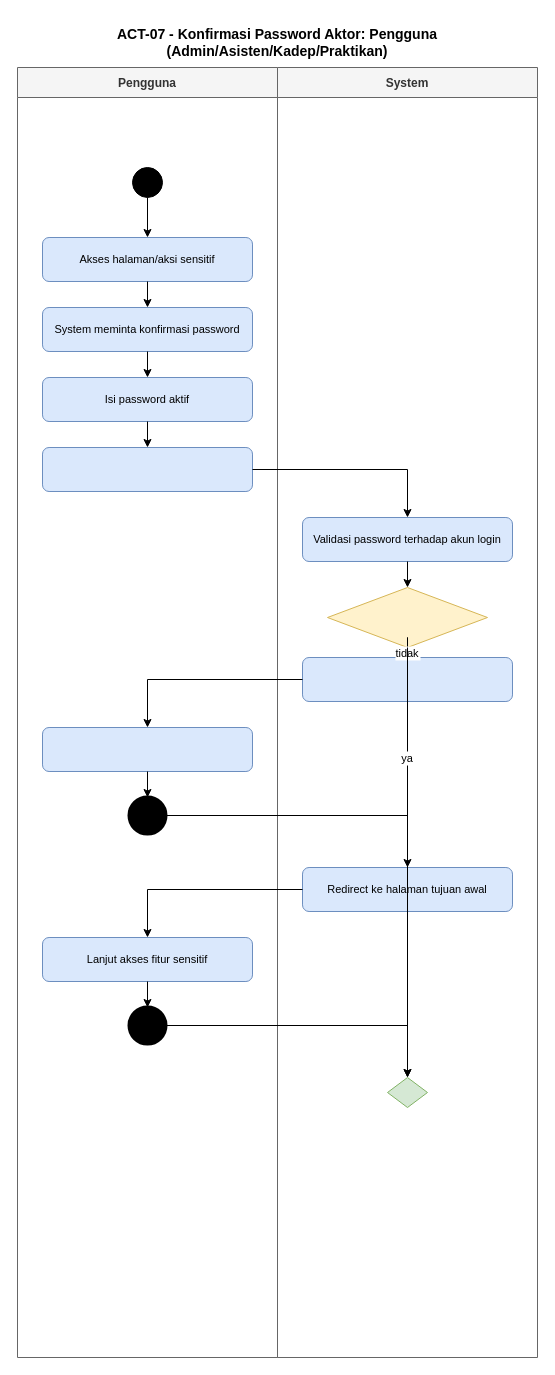
Image size: 555x1375. Some labels were removed from this diagram. The shapes that lost their labels are listed below. From the top down, each one's box as (x1, y1, x2, y2) in pixels, then its label:
(42, 446, 252, 492): Klik Konfirmasi
(326, 586, 488, 648): Password benar?
(302, 656, 512, 702): Kirim error auth.password
(42, 726, 252, 772): Masukkan ulang password
